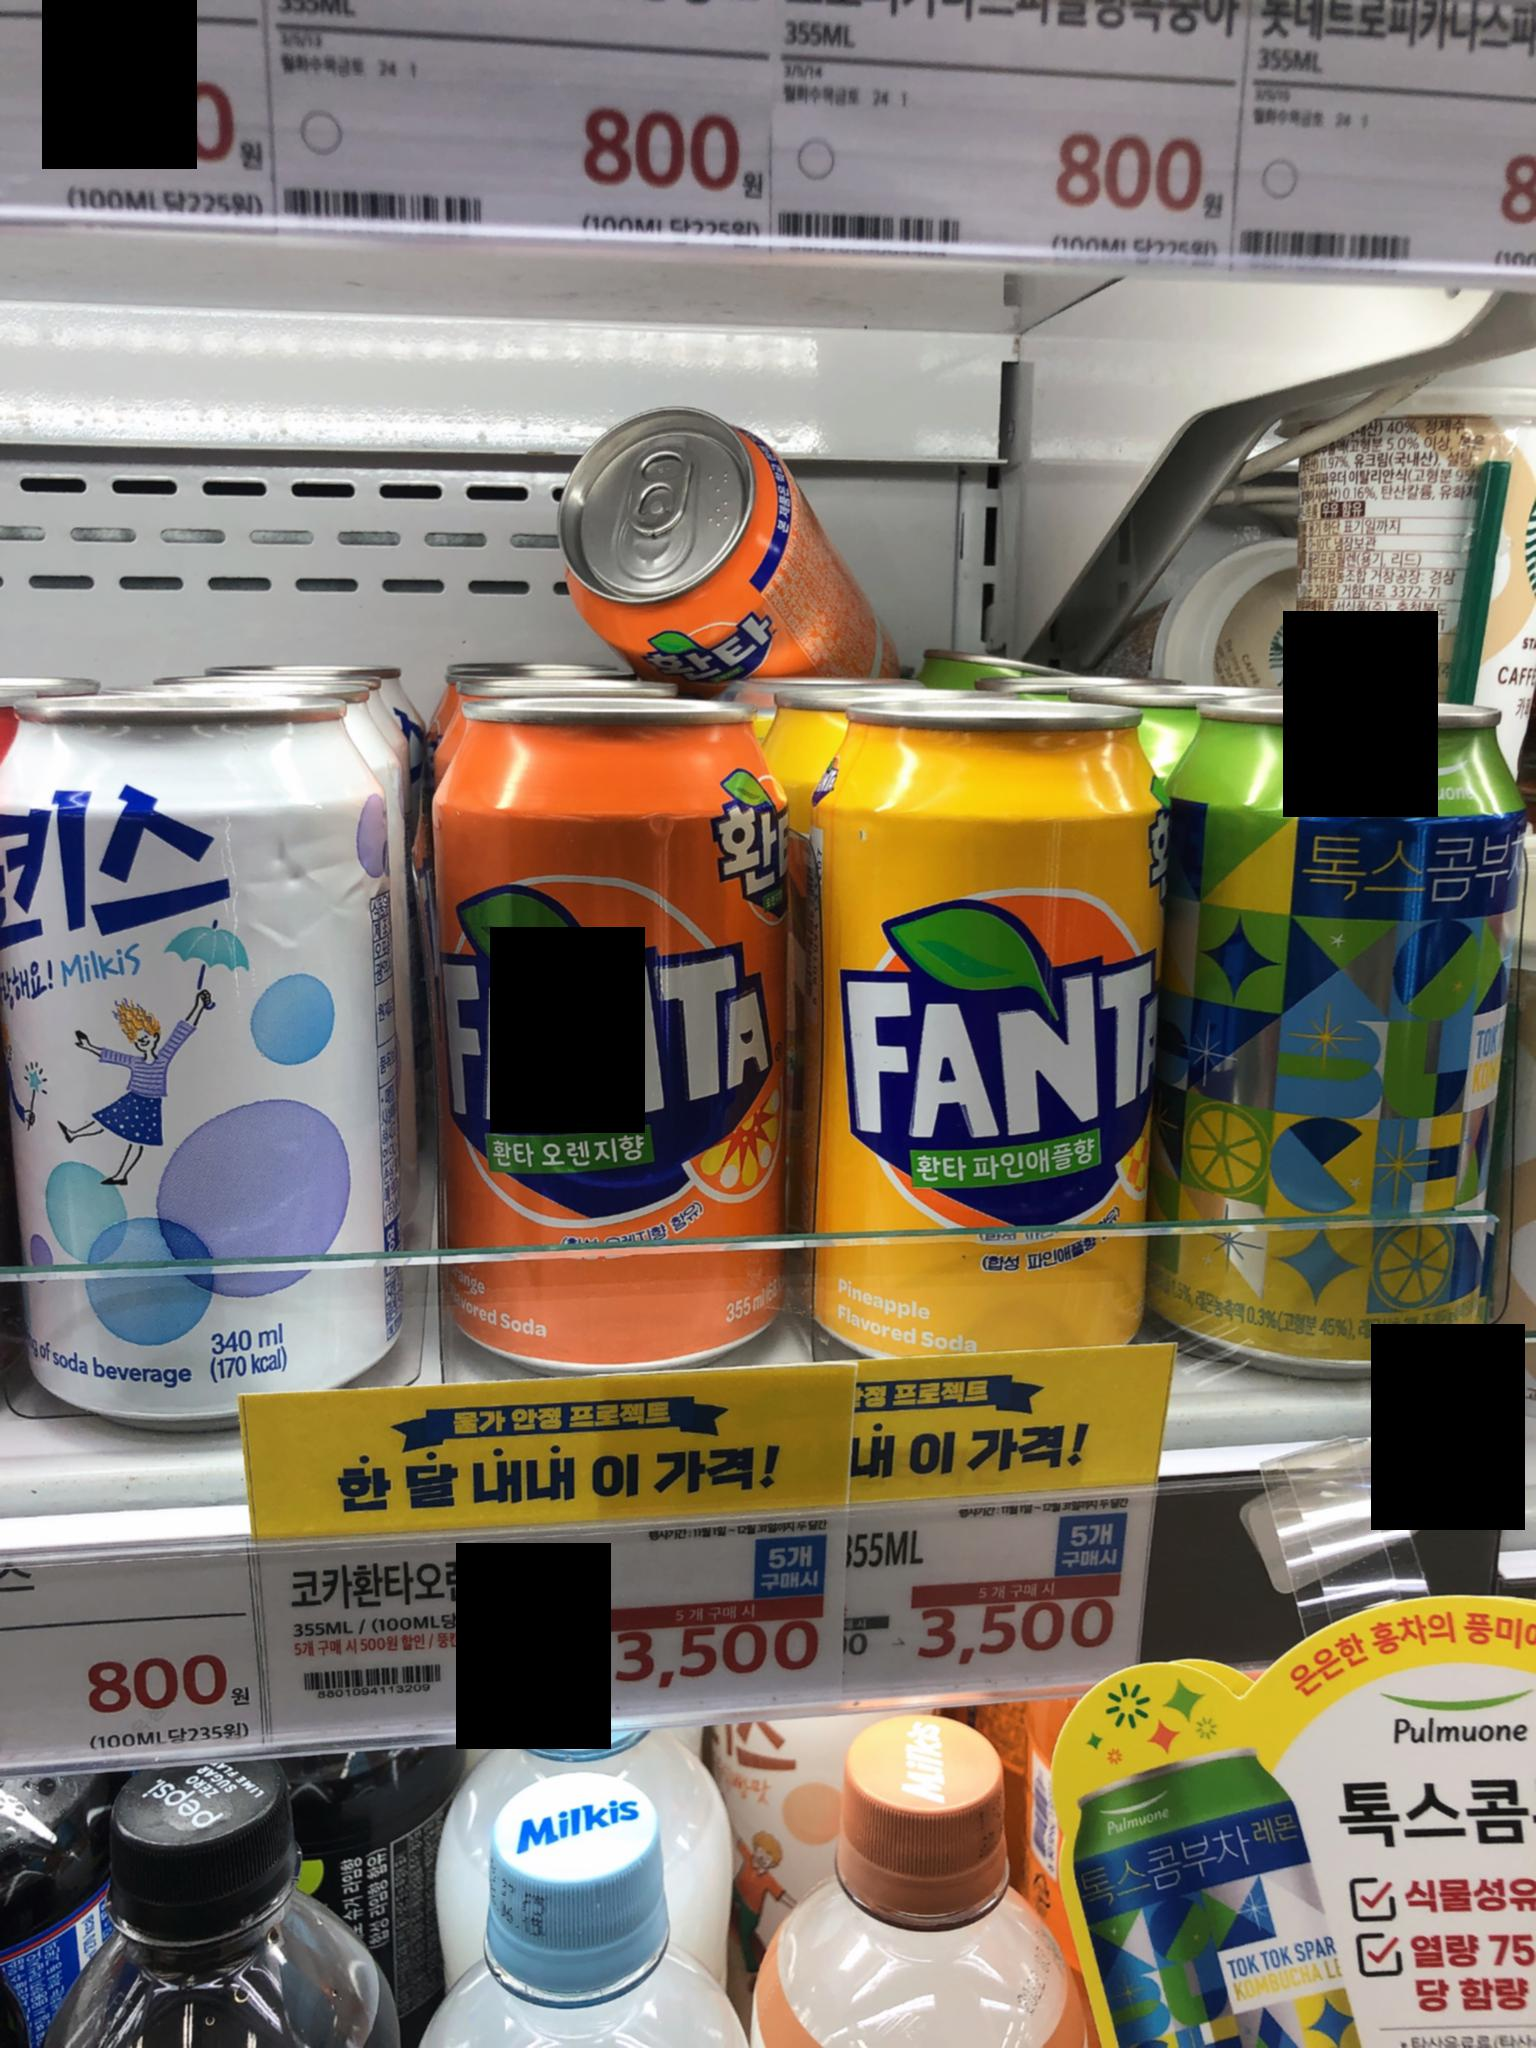fanta_orange: (387, 647, 816, 1353)
